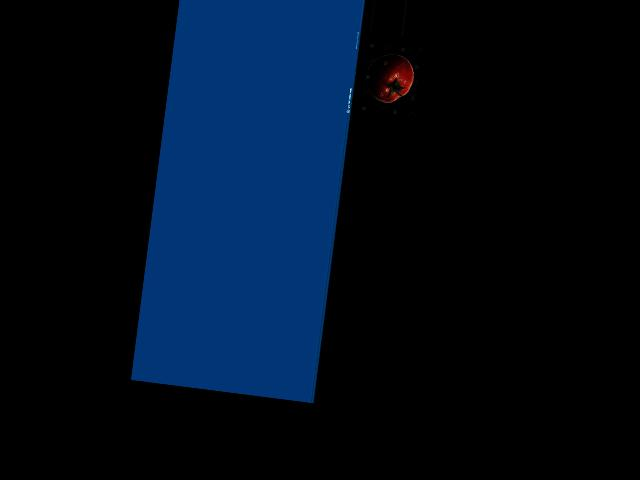tomato: (363, 50, 416, 105)
